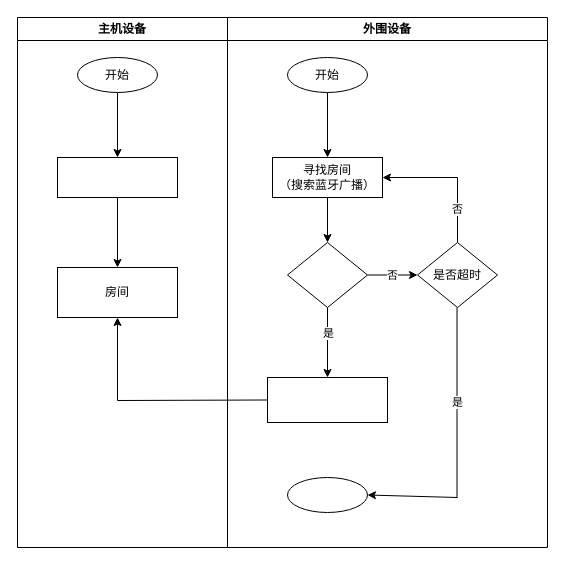
The diagram is 565 pixels wide and 565 high, and some of its shapes have lost their labels. Each missing label, with the centre of its shape:
创建房间 （发出蓝牙广播）: the point at 117,177
加入房间: the point at 327,399
是否搜到: the point at 327,275
结束: the point at 327,494
